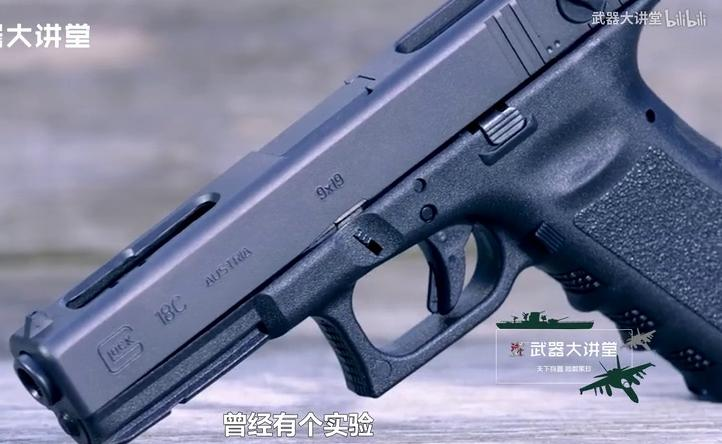gun: (1, 1, 722, 444)
